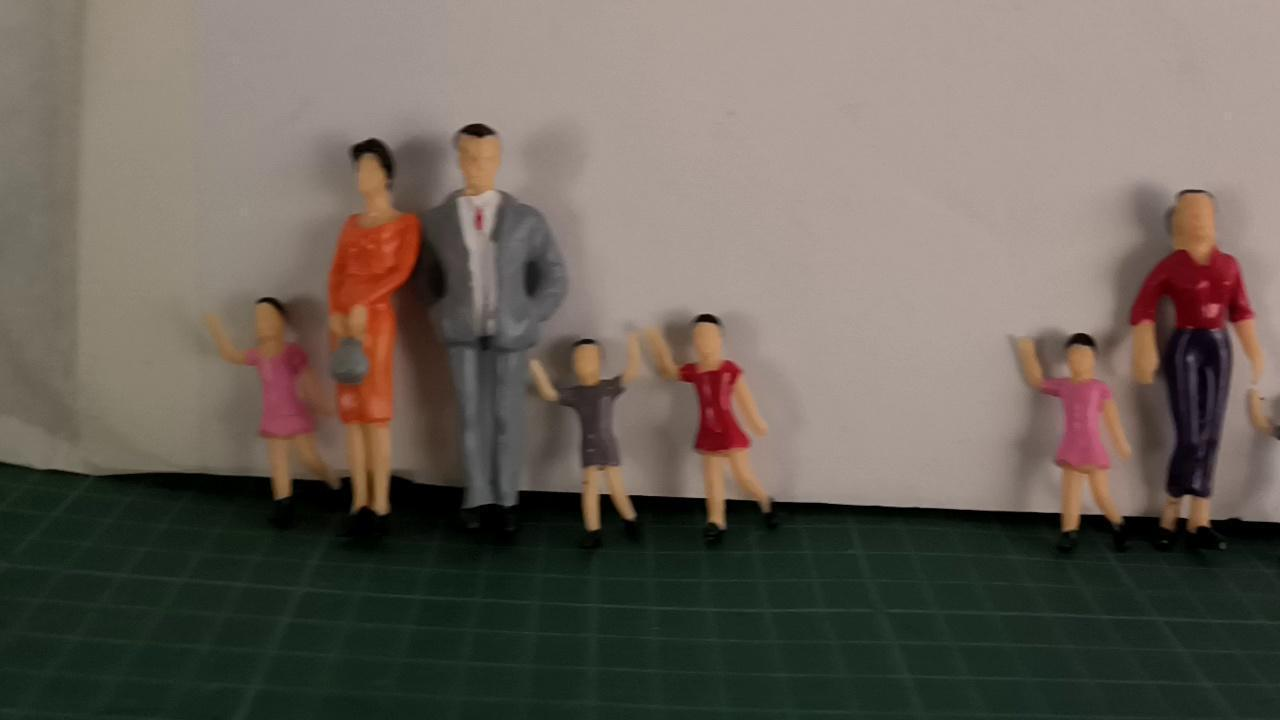human: (407, 93, 578, 550), (1129, 173, 1266, 559), (315, 125, 423, 549), (195, 285, 347, 524), (641, 312, 786, 548), (1008, 322, 1135, 560), (527, 325, 650, 553)
